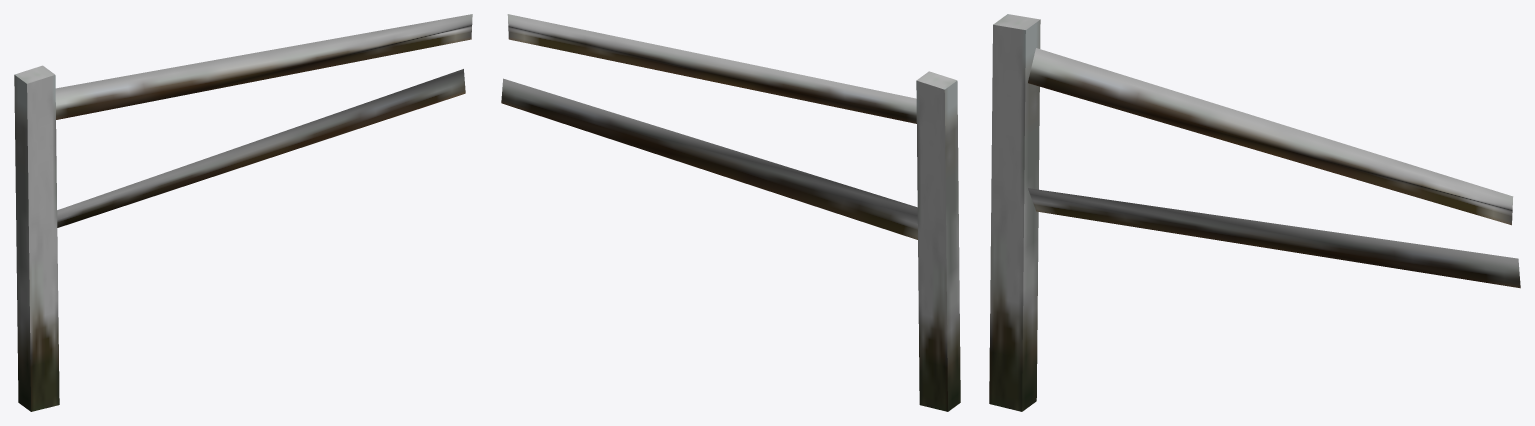
Rendered from general_obj_fence02_lod_01.fbx.
3 renders of one model, left to right at view 1: azimuth 30°, elevation 25°; view 2: azimuth 150°, elevation 25°; view 3: azimuth 330°, elevation 25°, orthographic. The views are drawn at different scales.
Visible parts, largest first — view 1: Sphere01; view 2: Sphere01; view 3: Sphere01.
Part boxes in pixels (box(x1,y1,x2,y2)): Sphere01: box(14, 14, 472, 411); Sphere01: box(501, 14, 960, 411); Sphere01: box(989, 14, 1520, 411).
Bounding box in the file's own units: 3.19 × 2.23 × 0.2022.
